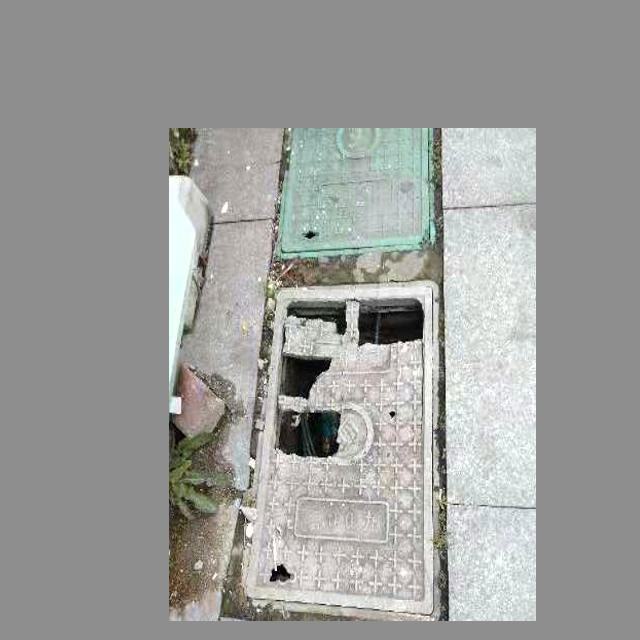broke: (237, 279, 440, 621)
